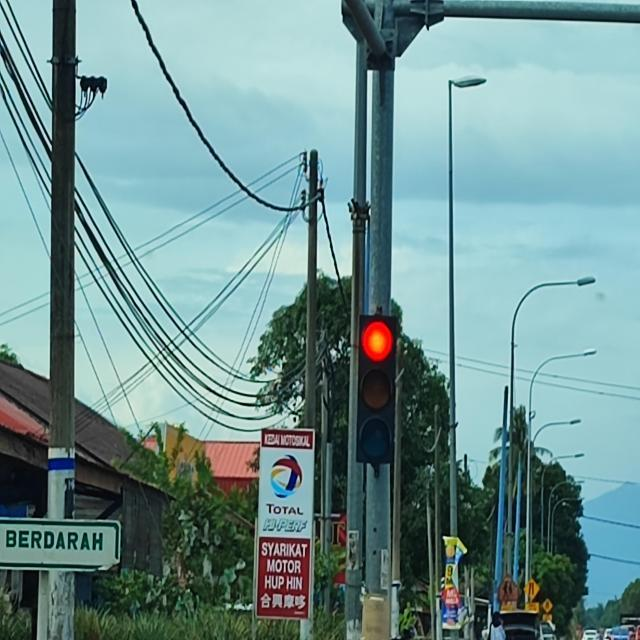red_light: (355, 315, 396, 462)
